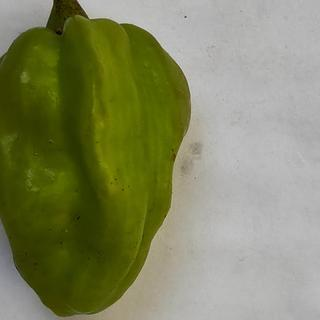Grade-A: (0, 11, 194, 317)
